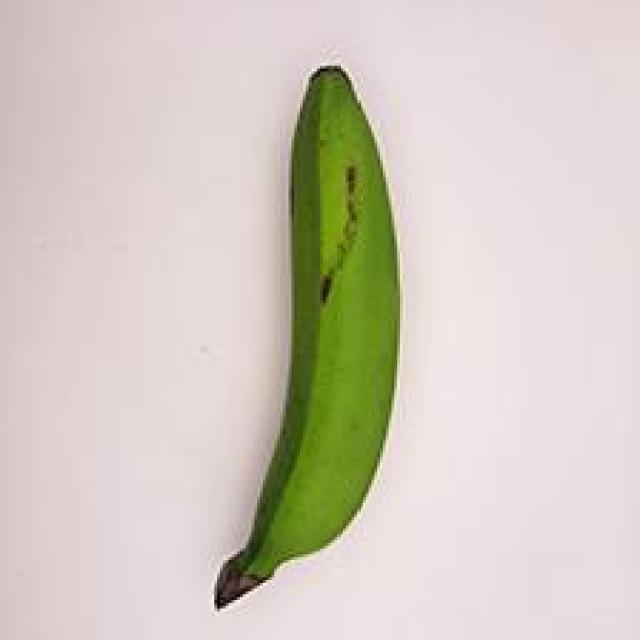Raw: (202, 42, 430, 604)
